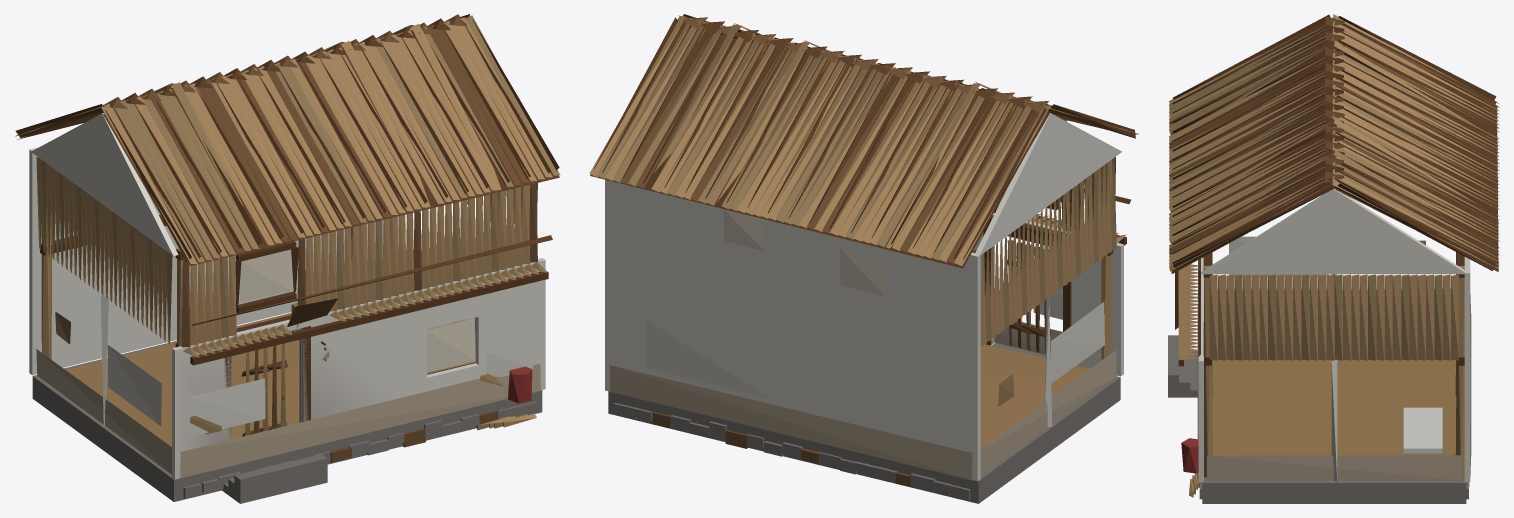
File: lib_house_c2.vc2.glb
3 renders of one model, left to right at view 1: azimuth 30°, elevation 25°; view 2: azimuth 150°, elevation 25°; view 3: azimuth 270°, elevation 25°, orthographic. The views are drawn at different scales.
Visible parts, largest first — view 1: lib_house_c2; view 2: lib_house_c2; view 3: lib_house_c2.
Boxes of the visible parts, bbox=[...] form: lib_house_c2: bbox=[15, 14, 560, 503]; lib_house_c2: bbox=[589, 14, 1139, 503]; lib_house_c2: bbox=[1168, 14, 1499, 503].
Bounding box in the file's own units: 7.2 × 6.5 × 5.98.
